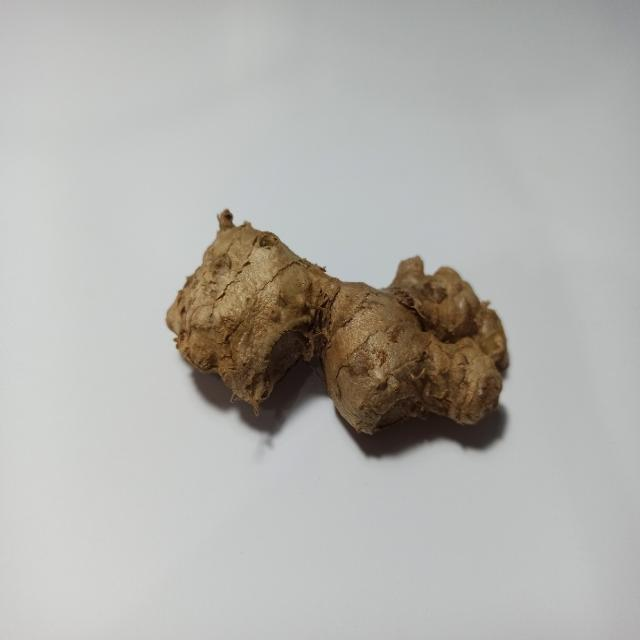ginger: (166, 223, 508, 437)
